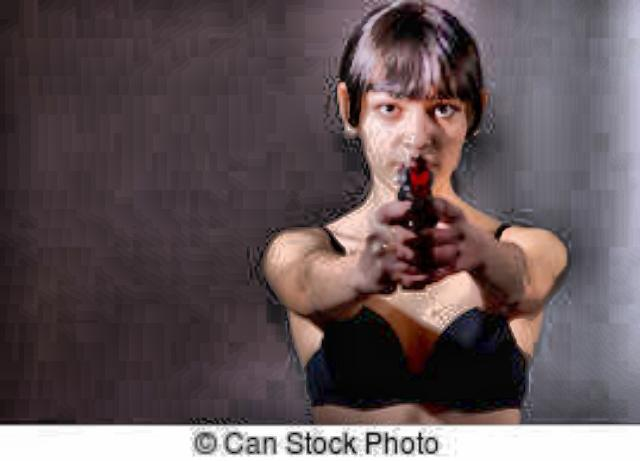pistol: (391, 150, 433, 276)
